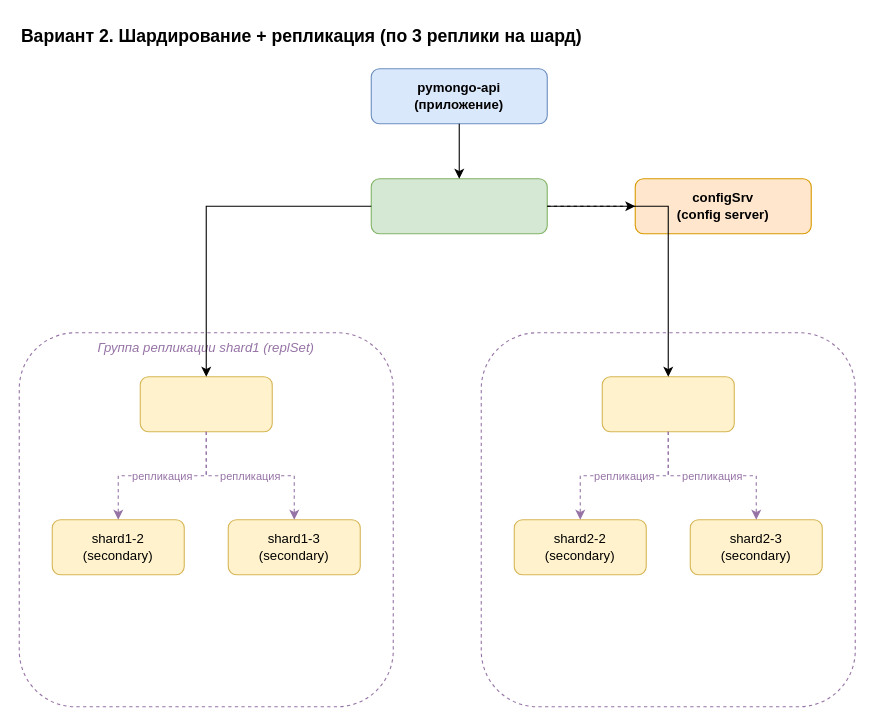
This 875x726 diagram has some shape labels left out. Here are the shapes that lost their labels. From the top down, the box of each, then its label:
(370, 178, 547, 234): mongos (роутер)
(139, 376, 272, 432): shard1-1 (PRIMARY)
(601, 376, 734, 432): shard2-1 (PRIMARY)
(480, 332, 855, 707): Группа репликации shard2 (replSet)
